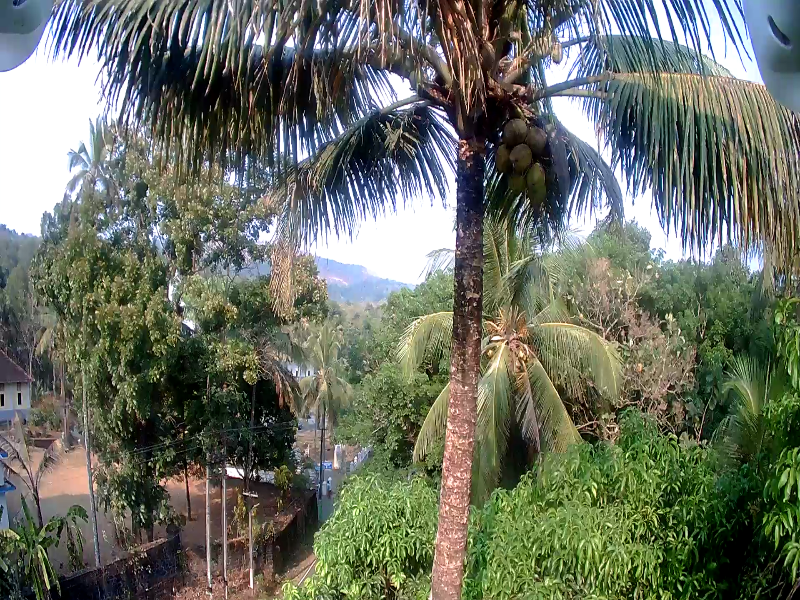coconut: (526, 124, 545, 151), (407, 67, 430, 87), (496, 147, 518, 167), (548, 39, 563, 67), (506, 120, 525, 141), (504, 171, 526, 187), (513, 145, 528, 165), (525, 166, 542, 182), (523, 179, 537, 196)
